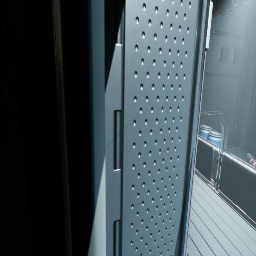NitrogenTank ,: (246, 153, 256, 168)
